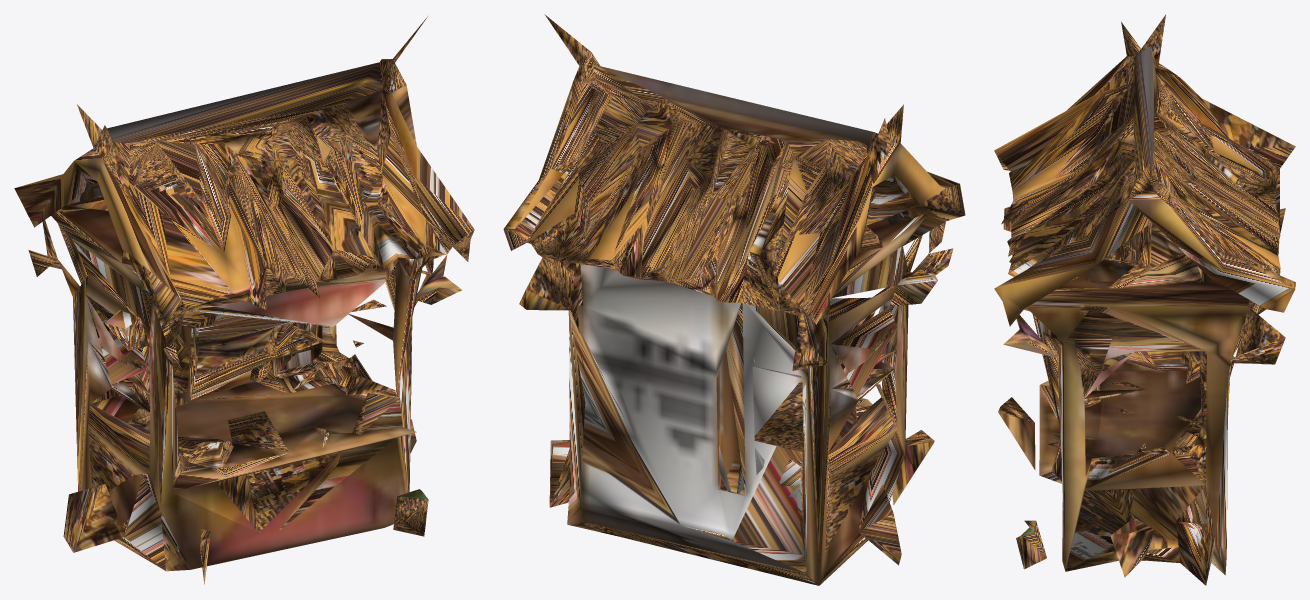
The model's file is bq_lantern_shop.lod2.glb.
3 renders of one model, left to right at view 1: azimuth 30°, elevation 25°; view 2: azimuth 150°, elevation 25°; view 3: azimuth 270°, elevation 25°, orthographic. The views are drawn at different scales.
Bounding box in the file's own units: 1.54 × 1.88 × 1.17.
1 material, 1 textured.
